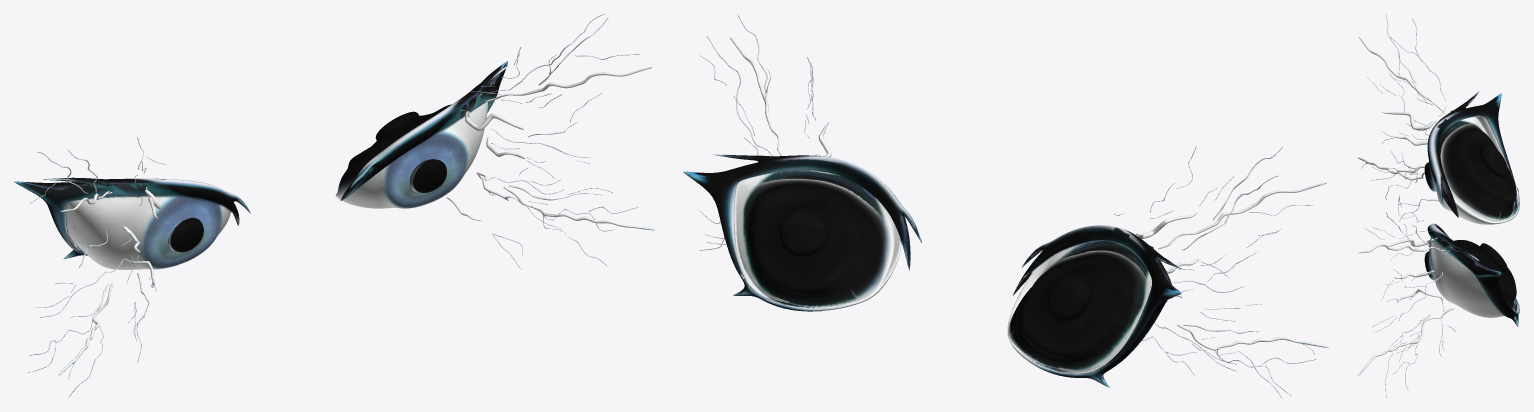
The model's file is simsek.glb.
The picture shows the model from 3 angles, left to right: view 1: azimuth 30°, elevation 25°; view 2: azimuth 150°, elevation 25°; view 3: azimuth 270°, elevation 25°; orthographic projection. The views are drawn at different scales.
Bounding box in the file's own units: 1.9 × 0.7378 × 0.58.
1 material, 1 textured.
